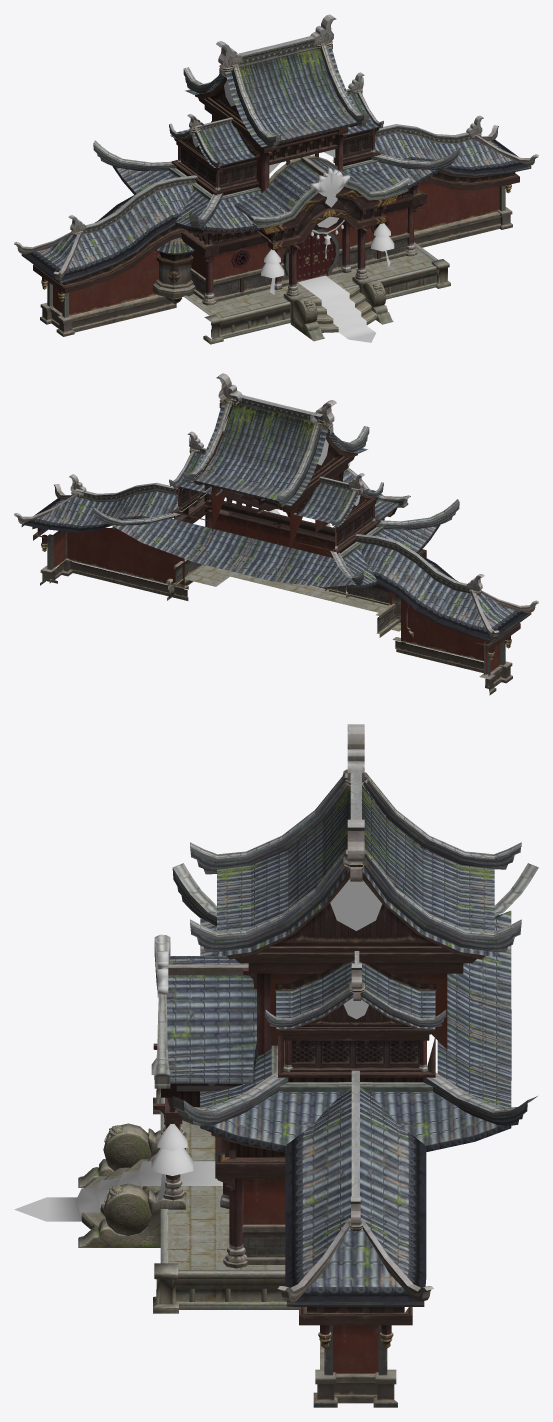
Rendered from build_02_04.FBX.
3 renders of one model, top to bottom at view 1: azimuth 30°, elevation 25°; view 2: azimuth 150°, elevation 25°; view 3: azimuth 270°, elevation 25°, orthographic. The views are drawn at different scales.
Parts seen in each view (by area): view 1: Object003, segment_1, segment_2; view 2: Object003, segment_1; view 3: Object003, segment_1, segment_2.
Part boxes in pixels (left/top/right/bottom): Object003: left=14, top=14, right=538, bottom=336; segment_1: left=183, top=242, right=450, bottom=344; segment_2: left=192, top=80, right=394, bottom=342; Object003: left=14, top=373, right=538, bottom=695; segment_1: left=166, top=565, right=400, bottom=631; Object003: left=153, top=724, right=538, bottom=1407; segment_1: left=78, top=1076, right=298, bottom=1313; segment_2: left=14, top=815, right=385, bottom=1221.
Size of the model in its own units: 767 by 370 by 400.
